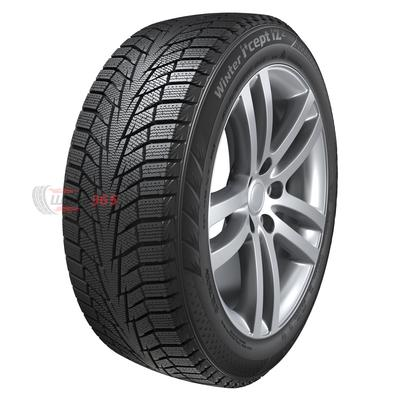objects: (32, 185, 117, 214)
